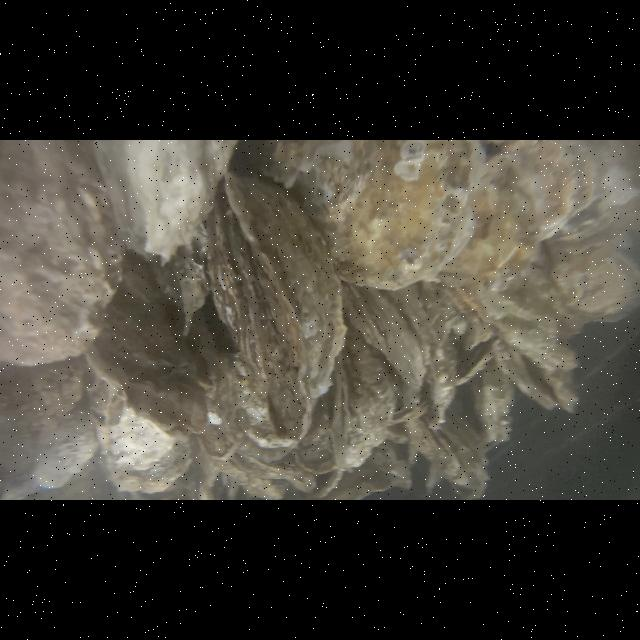Oyster-Closed: (208, 174, 345, 437), (260, 140, 484, 289), (0, 140, 124, 365), (460, 141, 640, 284), (86, 252, 210, 441), (94, 140, 236, 261), (89, 366, 191, 492), (199, 346, 289, 459), (404, 384, 490, 498), (331, 326, 396, 470), (344, 285, 426, 391), (545, 242, 640, 325), (143, 222, 209, 328), (196, 424, 286, 499), (495, 341, 558, 409), (292, 428, 336, 474)
